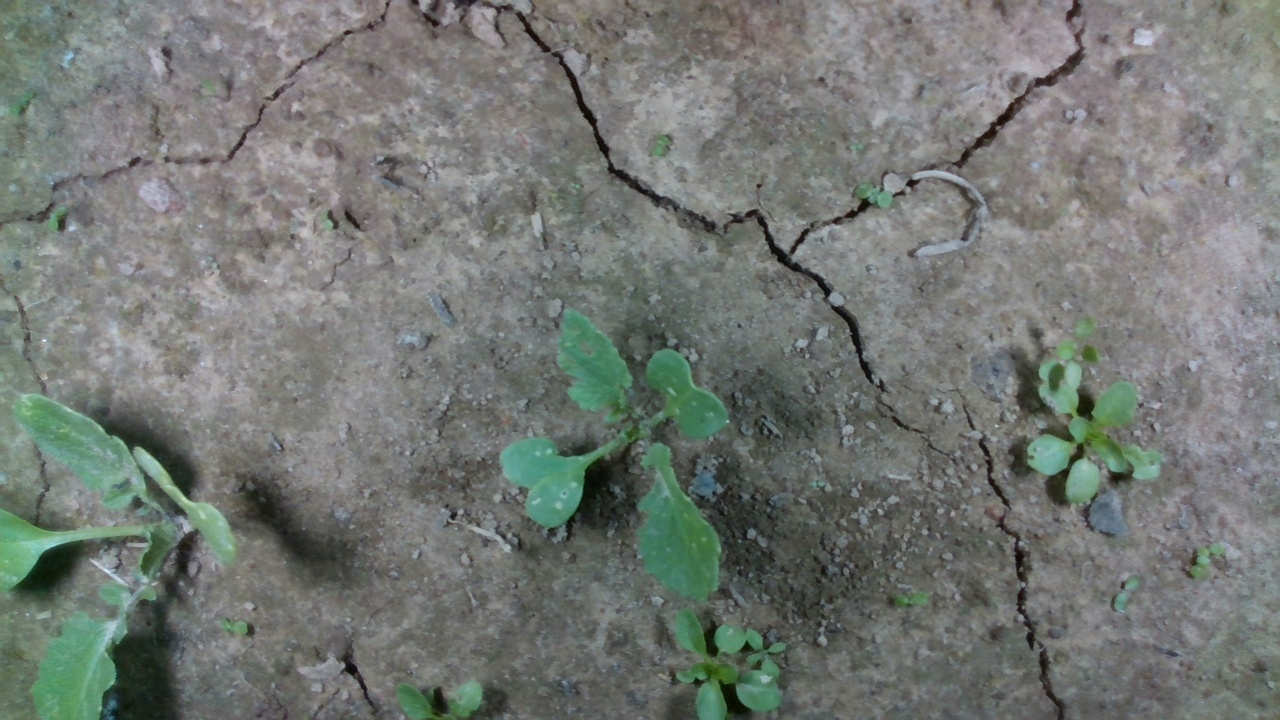weed: (36, 201, 84, 236), (642, 128, 680, 165), (1114, 576, 1138, 632), (893, 586, 939, 611), (852, 180, 891, 203), (844, 134, 869, 154)
